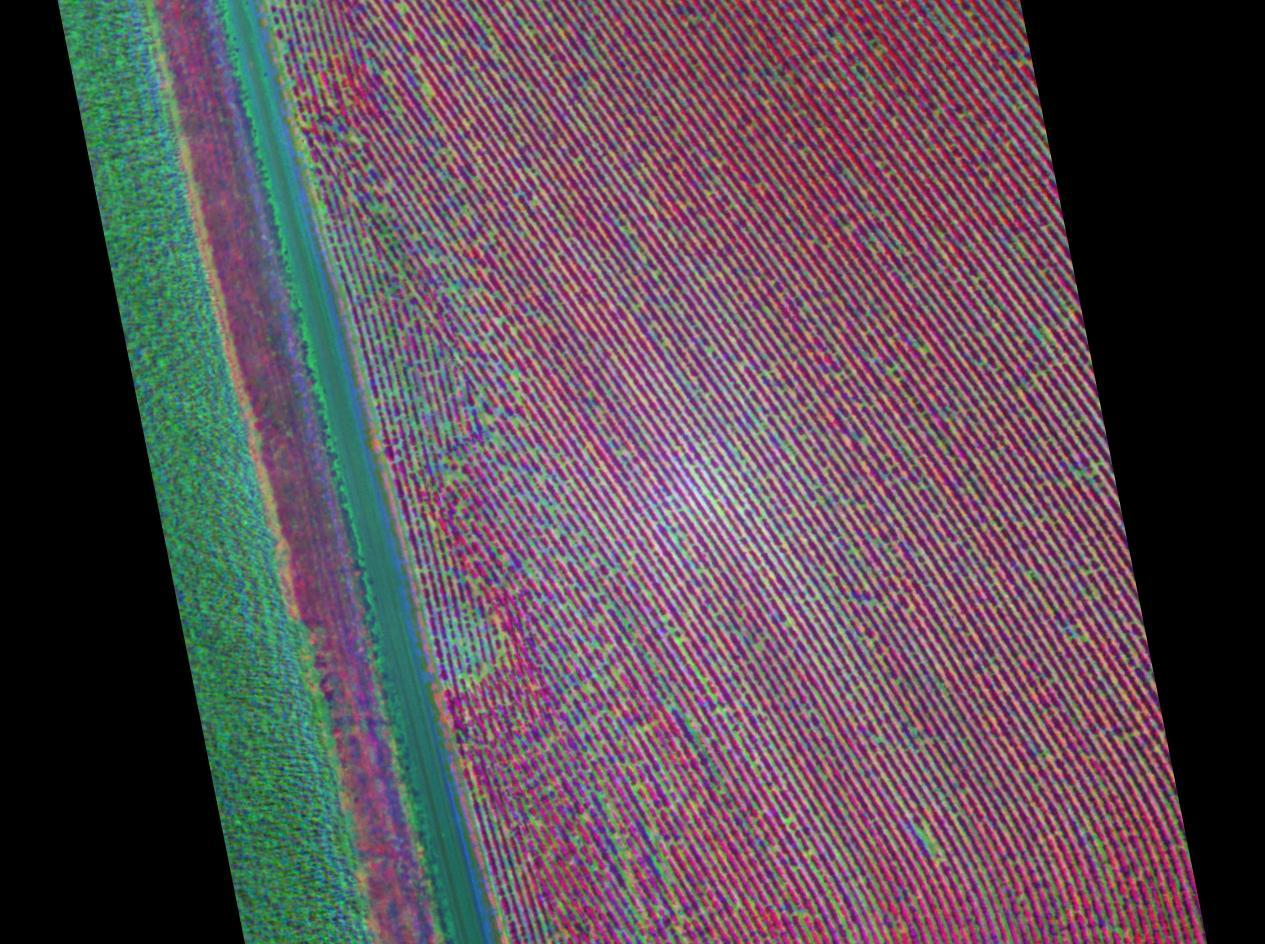dc: (424, 87, 429, 91), (373, 207, 377, 211), (455, 473, 459, 477), (387, 184, 390, 188), (373, 257, 376, 261), (485, 30, 489, 33), (490, 417, 493, 420)
